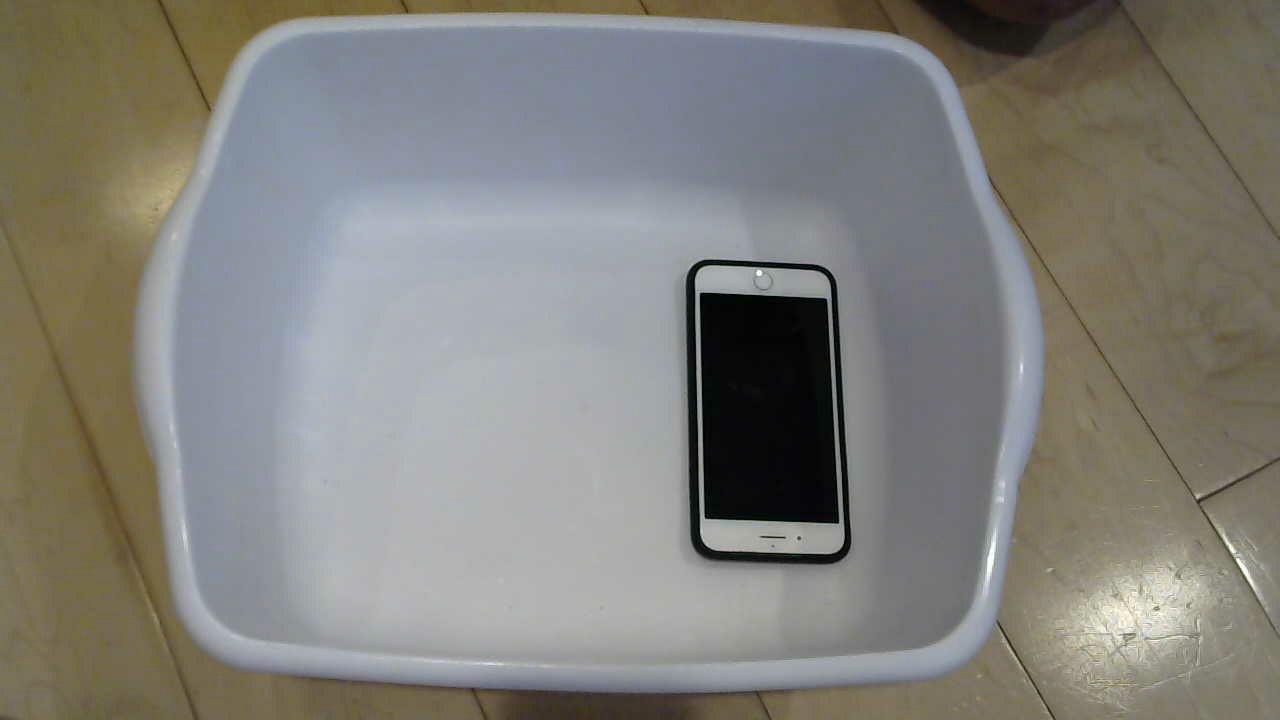phone: (669, 252, 876, 585)
